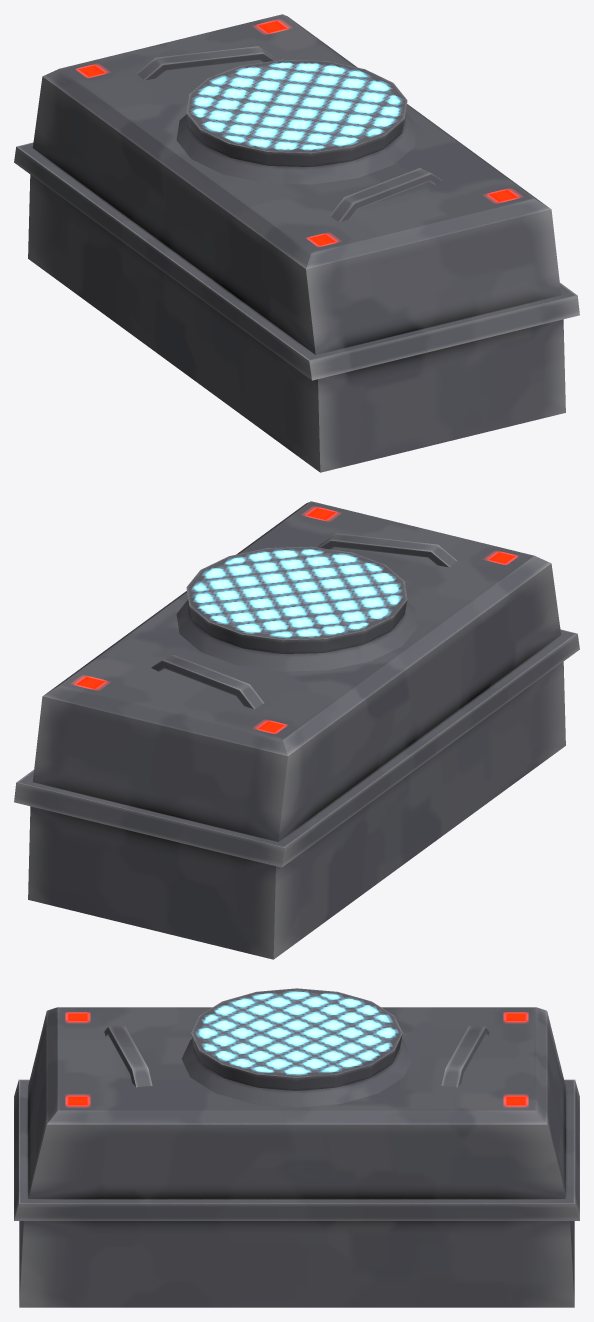
The model's file is RooftopVent.fbx.
3 renders of one model, top to bottom at view 1: azimuth 30°, elevation 25°; view 2: azimuth 150°, elevation 25°; view 3: azimuth 270°, elevation 25°, orthographic. The views are drawn at different scales.
Parts seen in each view (by area): view 1: RooftopVent; view 2: RooftopVent; view 3: RooftopVent.
Boxes of the visible parts, box(x1,y1,x2,y2) form: RooftopVent: box(14, 14, 579, 472); RooftopVent: box(14, 501, 579, 959); RooftopVent: box(14, 988, 579, 1307).
Size of the model in its own units: 416 by 339 by 799.
